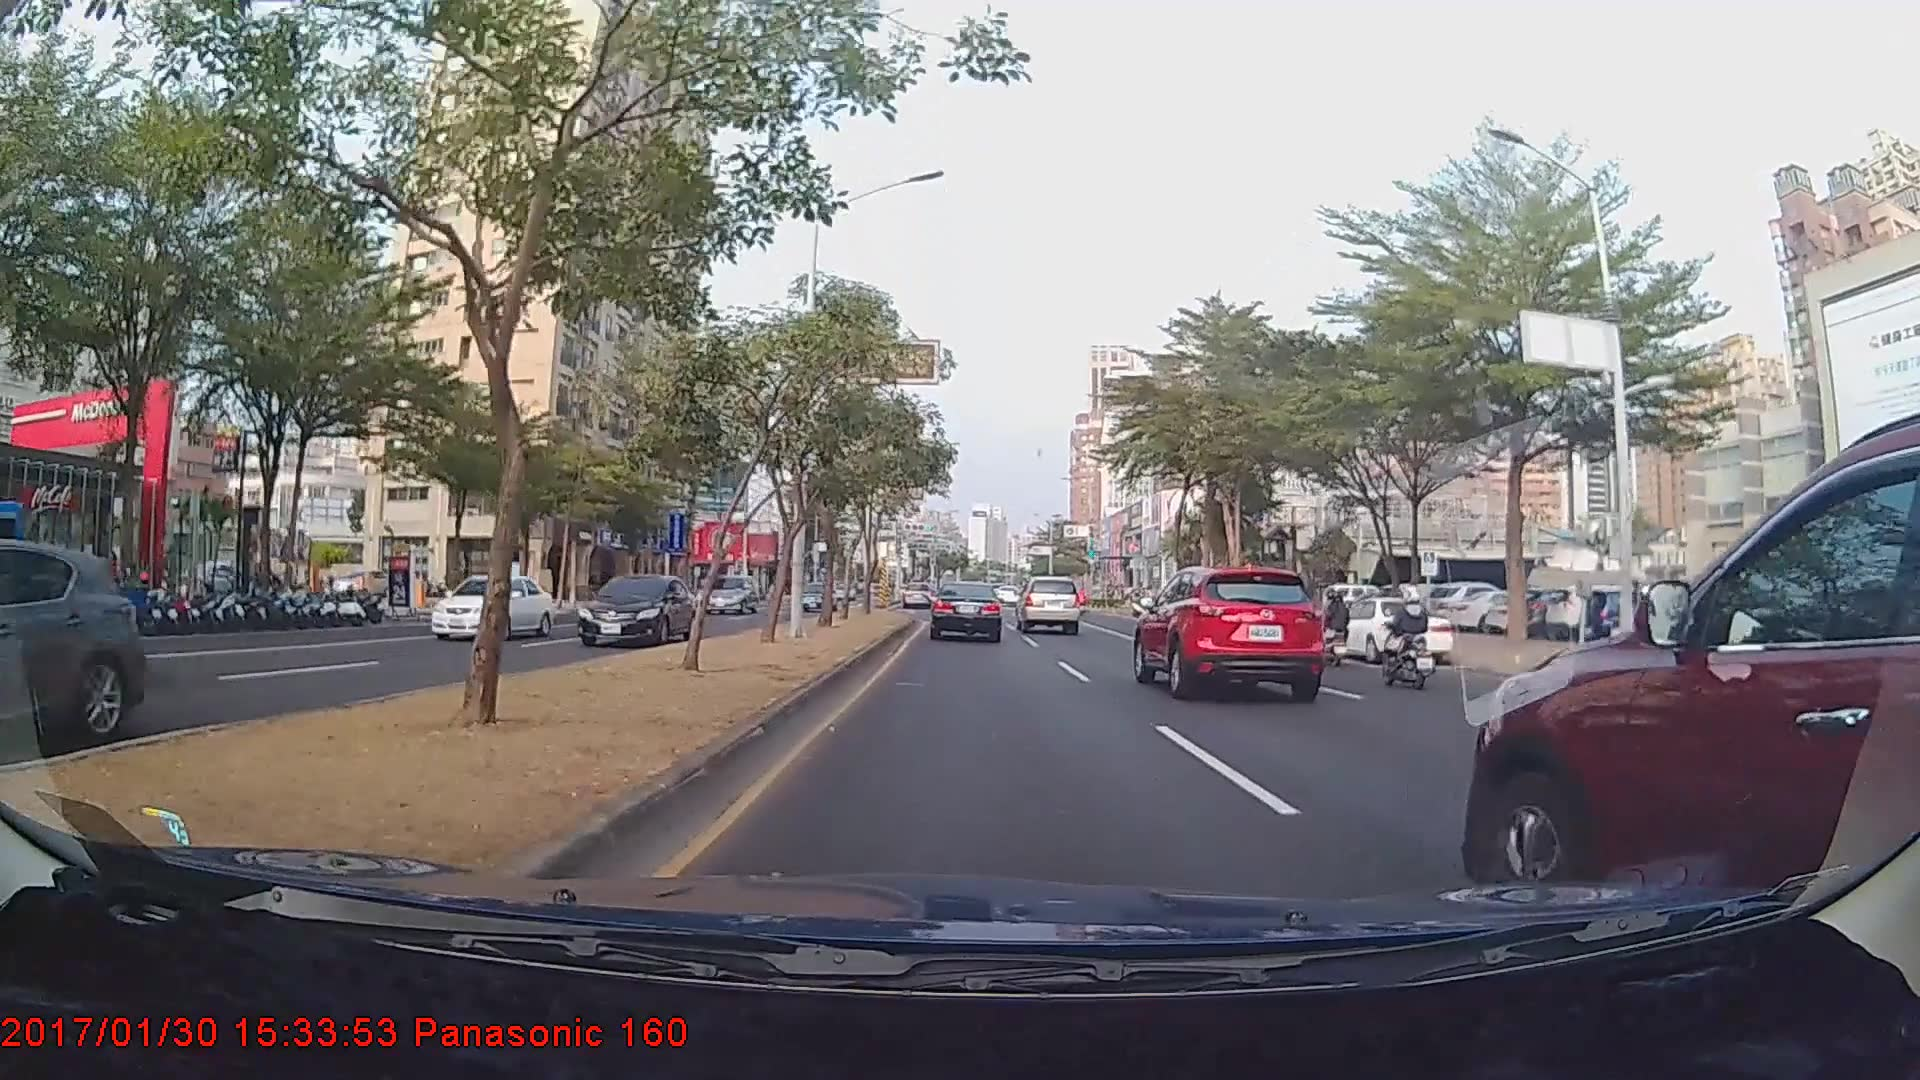rider: (1372, 584, 1441, 690)
vehicle: (1464, 406, 1920, 960), (0, 537, 148, 771), (1135, 558, 1326, 700), (575, 570, 701, 643), (1323, 595, 1452, 664), (429, 572, 552, 638), (928, 580, 1003, 643), (1016, 575, 1081, 634), (701, 572, 761, 613), (793, 580, 837, 611), (900, 582, 935, 609)
